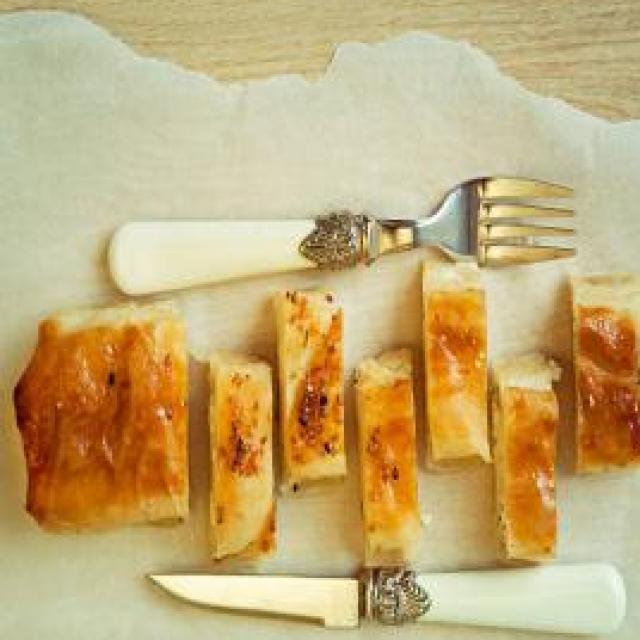knife: (148, 564, 632, 635)
